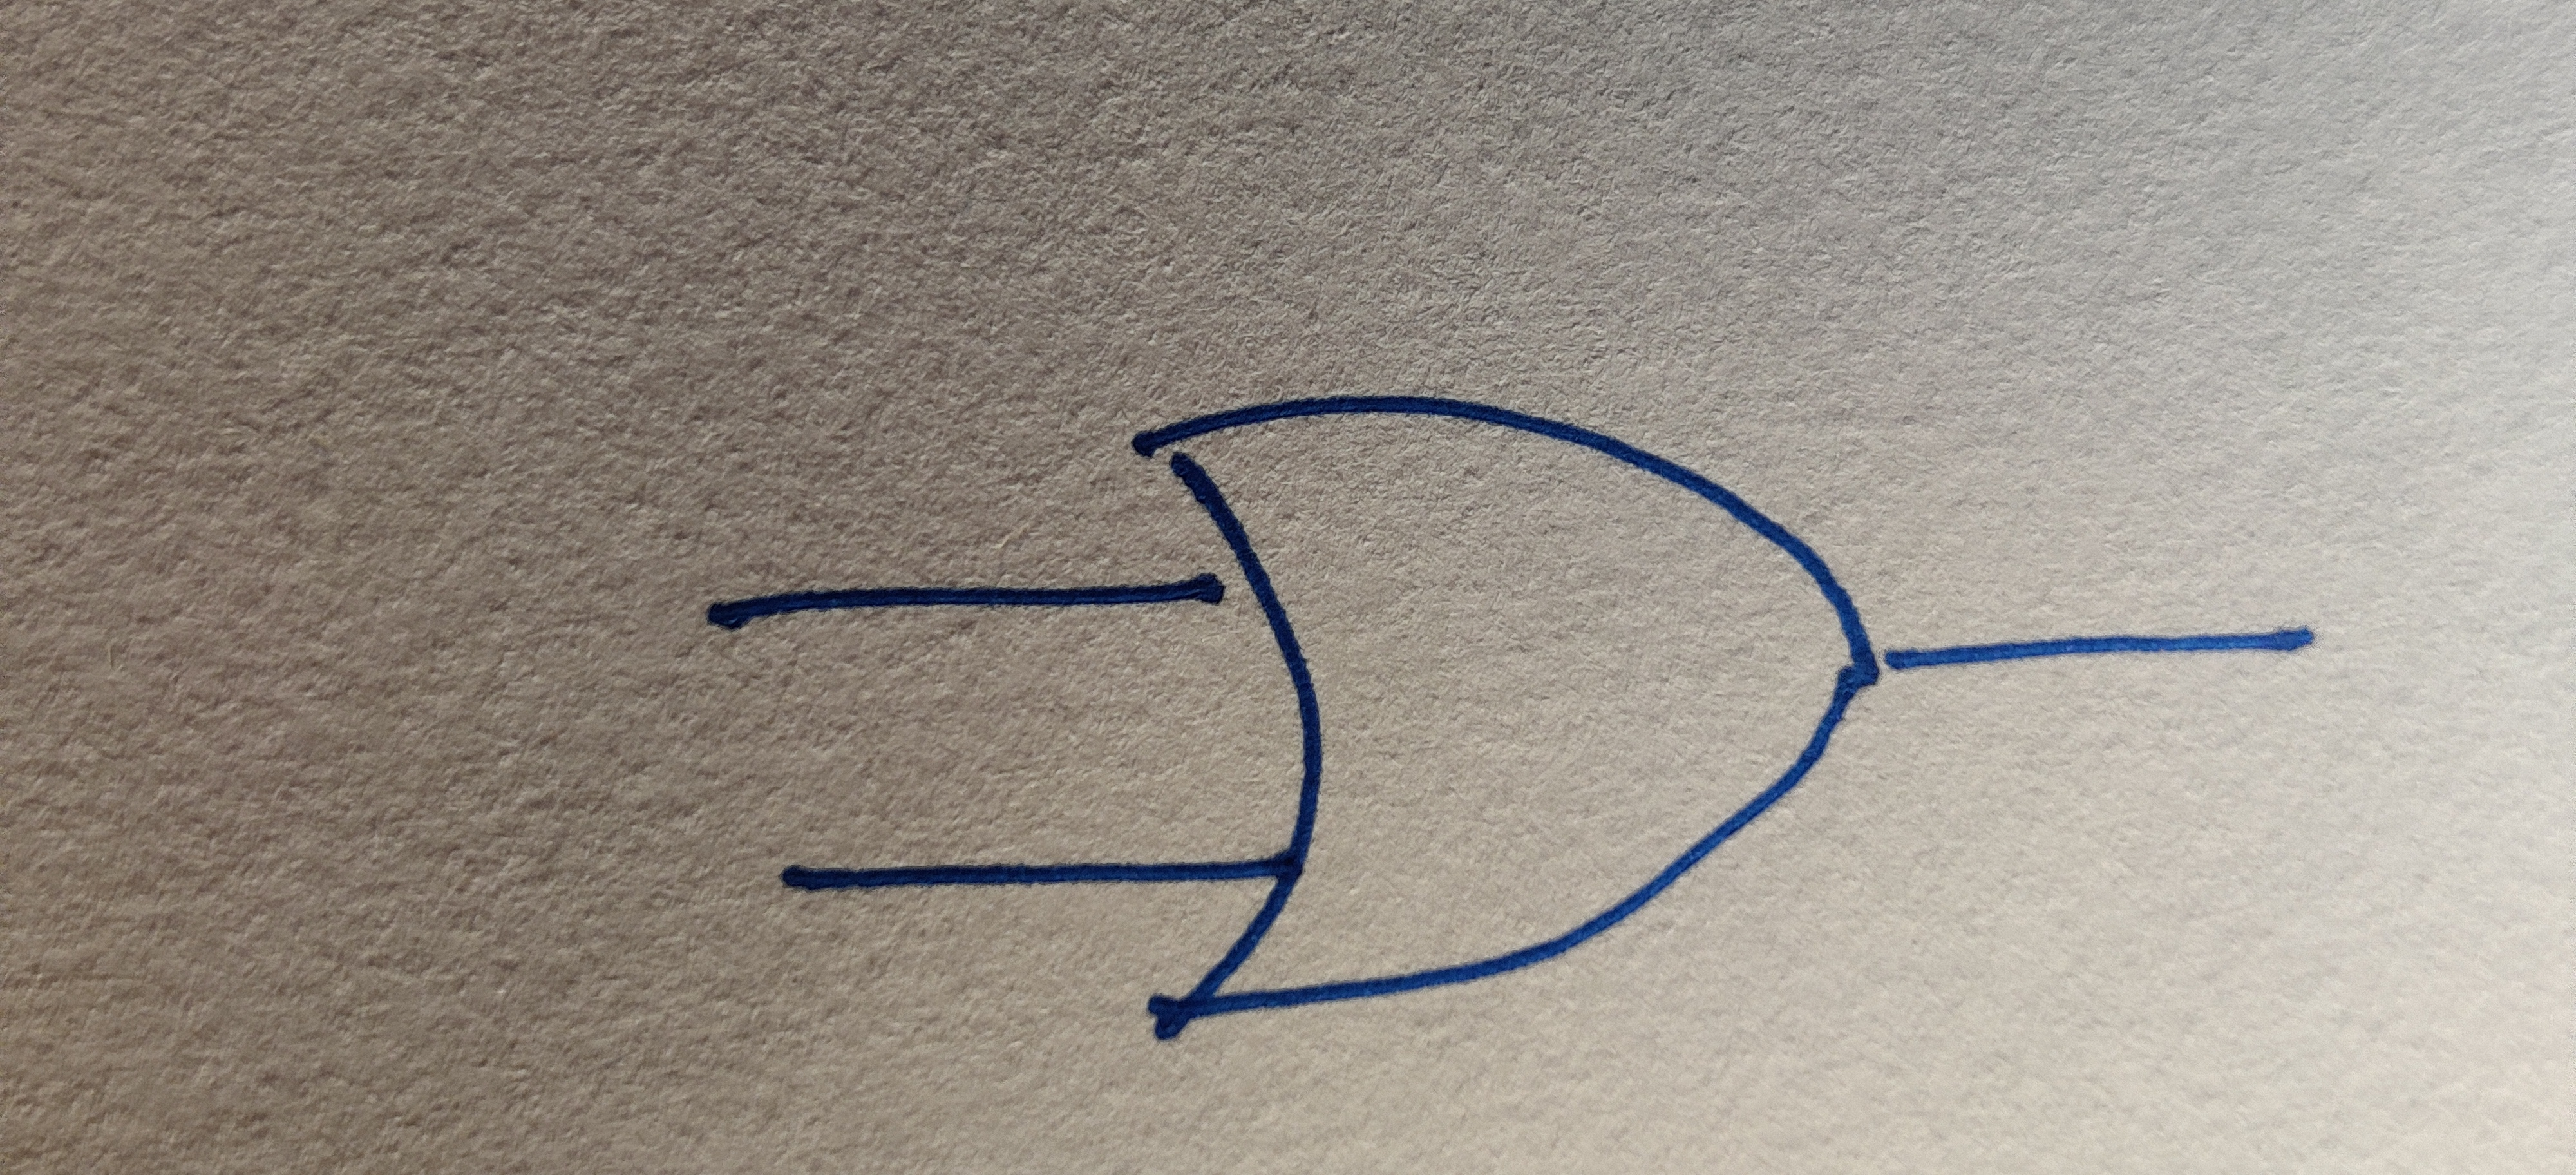or: (1152, 393, 1876, 1014)
